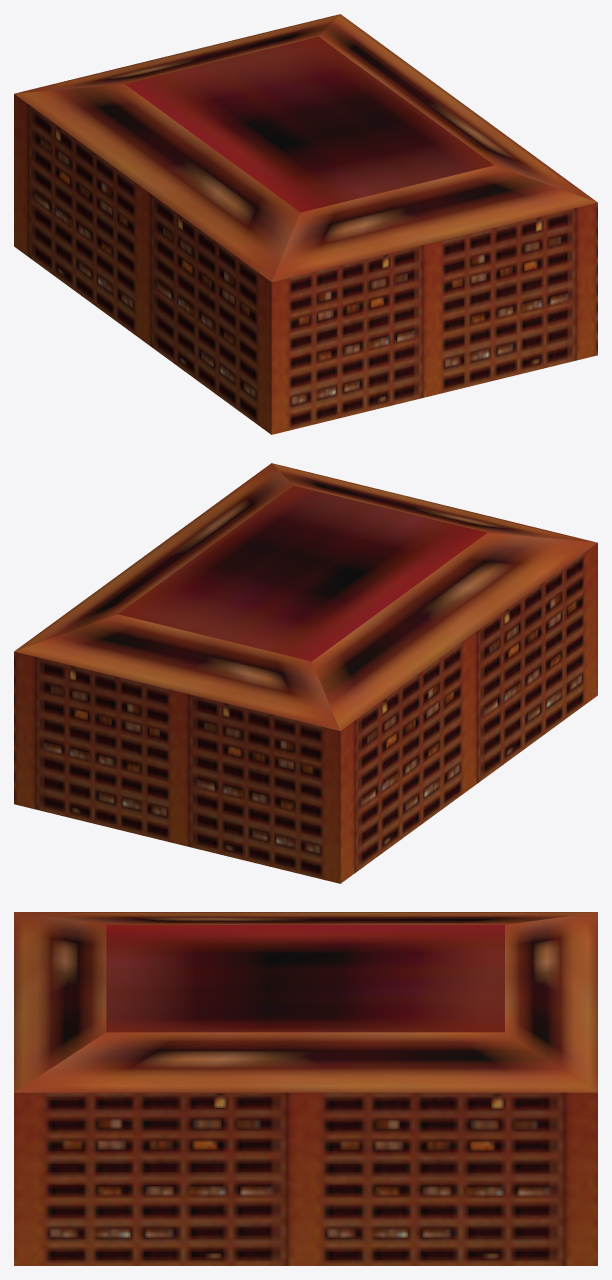
File: building.glb
3 renders of one model, top to bottom at view 1: azimuth 30°, elevation 25°; view 2: azimuth 150°, elevation 25°; view 3: azimuth 270°, elevation 25°, orthographic. The views are drawn at different scales.
Parts seen in each view (by area): view 1: Asset3DLoader.sceneRoot; view 2: Asset3DLoader.sceneRoot; view 3: Asset3DLoader.sceneRoot.
Boxes of the visible parts, x1,y1,x2,y2 form: Asset3DLoader.sceneRoot: (14,14,597,434); Asset3DLoader.sceneRoot: (14,463,597,883); Asset3DLoader.sceneRoot: (14,912,597,1265).
Size of the model in its own units: 1.83 by 0.94 by 2.5.
1 material, 1 textured.
